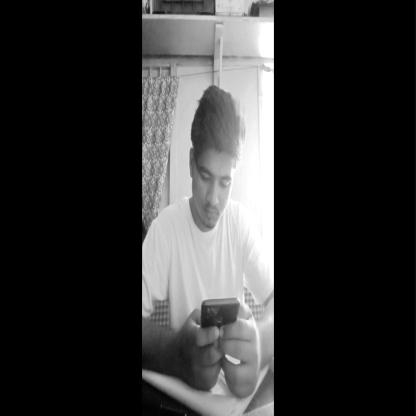Normal: (188, 88, 245, 240)
